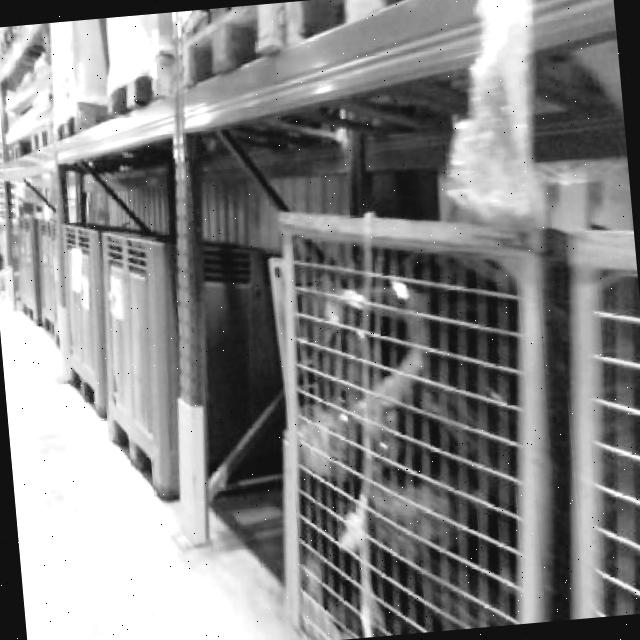ground: (0, 260, 349, 640)
pallet: (249, 176, 640, 640), (0, 69, 21, 309)
